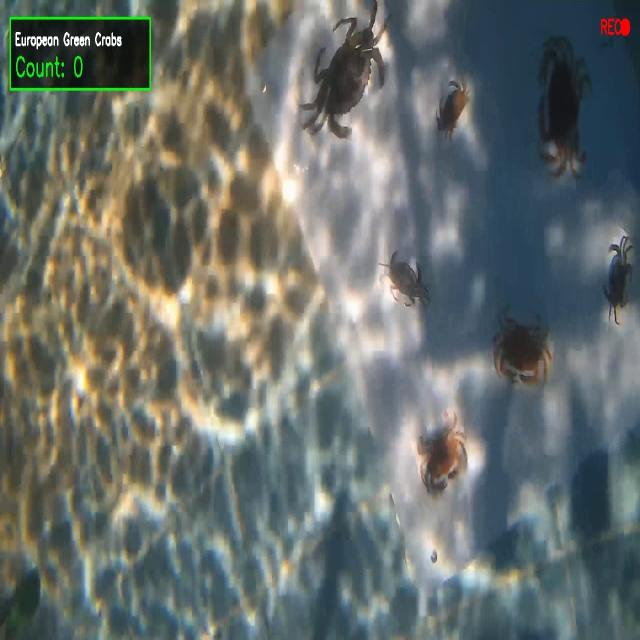European_Green_Crab: (282, 0, 411, 174), (595, 222, 636, 343), (379, 243, 437, 322)
